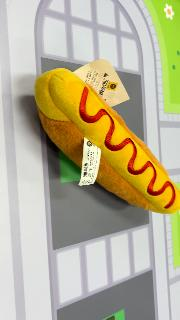hotdog: (34, 67, 180, 215)
